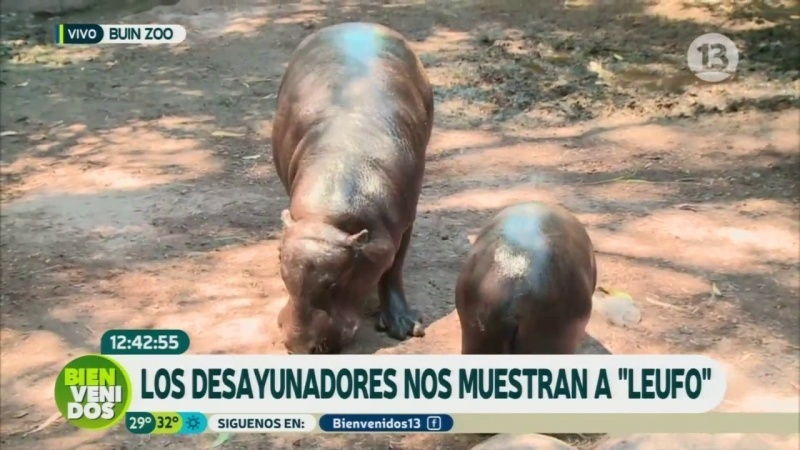hipopotamo: (246, 11, 444, 353), (428, 183, 617, 354)
